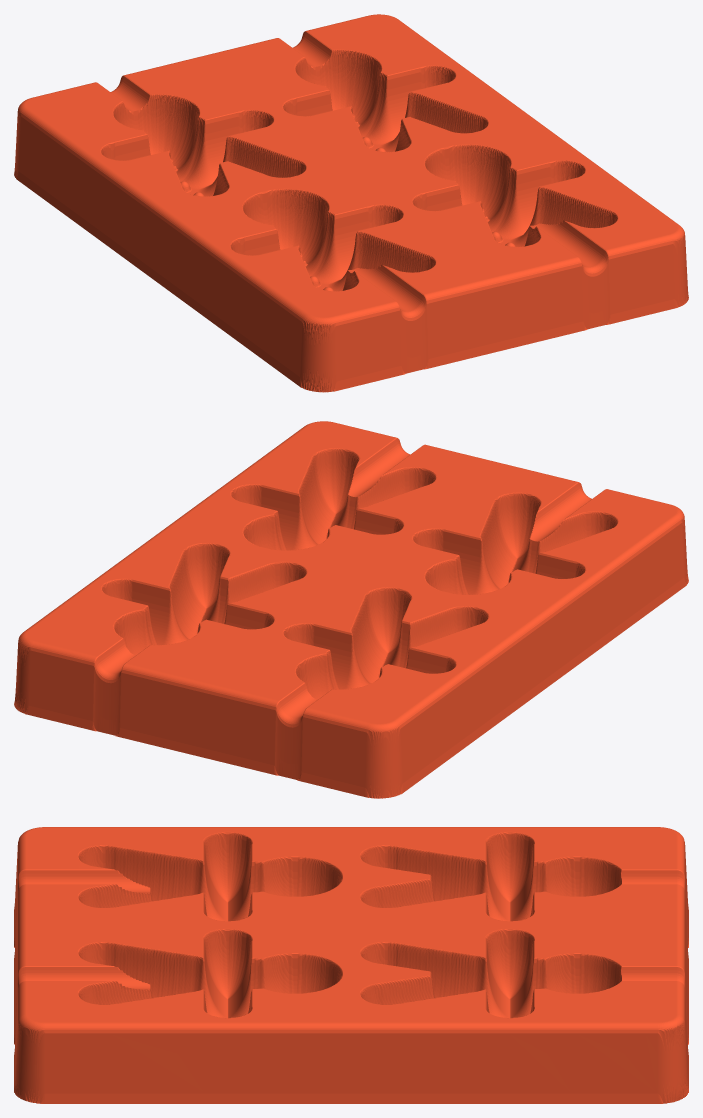
Rendered from mold.glb.
3 renders of one model, top to bottom at view 1: azimuth 30°, elevation 25°; view 2: azimuth 150°, elevation 25°; view 3: azimuth 270°, elevation 25°, orthographic. The views are drawn at different scales.
Visible parts, largest first — view 1: geometry_0; view 2: geometry_0; view 3: geometry_0.
Boxes of the visible parts, x1,y1,x2,y2 form: geometry_0: (14,14,688,392); geometry_0: (14,421,688,798); geometry_0: (14,827,688,1103).
Size of the model in its own units: 0.1416 by 0.0245 by 0.1968.
